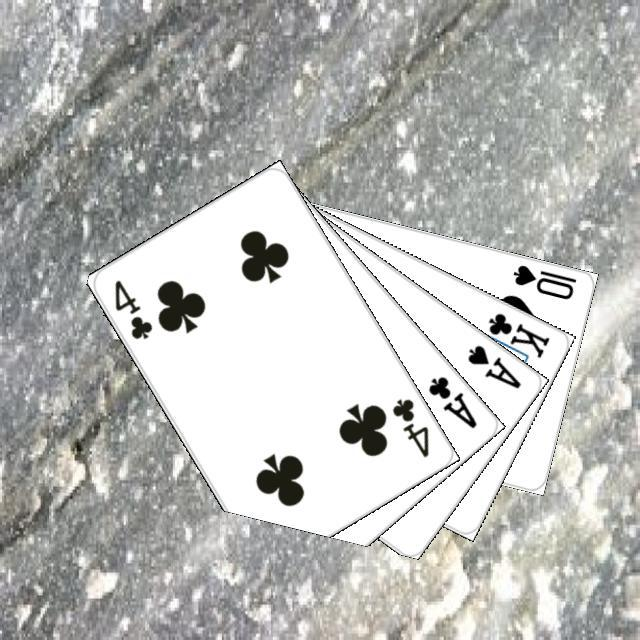10s: (508, 260, 578, 301)
4c: (109, 274, 155, 341), (387, 393, 431, 459)
Ac: (423, 371, 479, 431)
As: (462, 340, 523, 391)
Kc: (470, 307, 552, 361)
